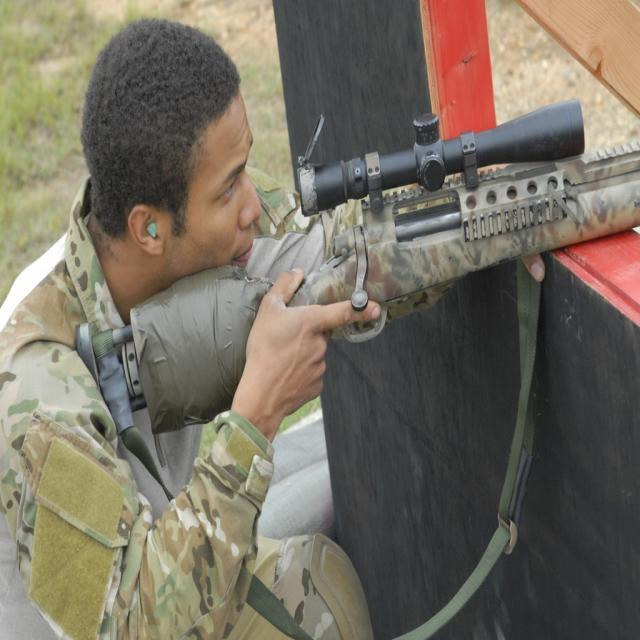weapon: (138, 101, 628, 530)
